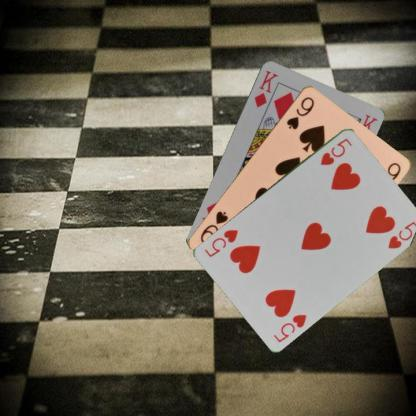5h: (271, 311, 308, 343), (318, 134, 353, 166)
9s: (284, 93, 316, 130)
Kd: (251, 68, 279, 108)
